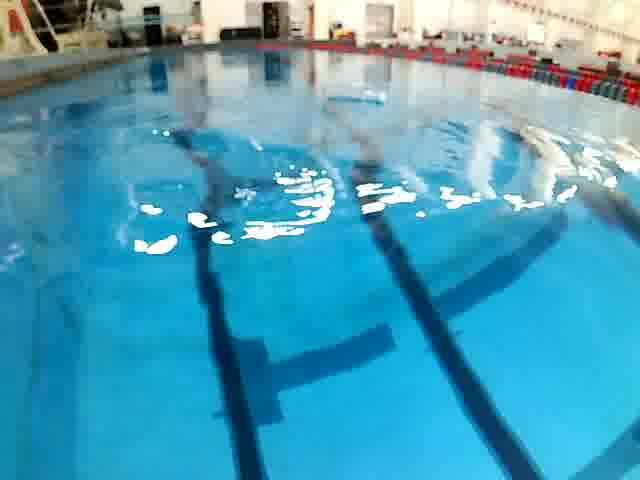Bottle: (316, 76, 394, 114)
